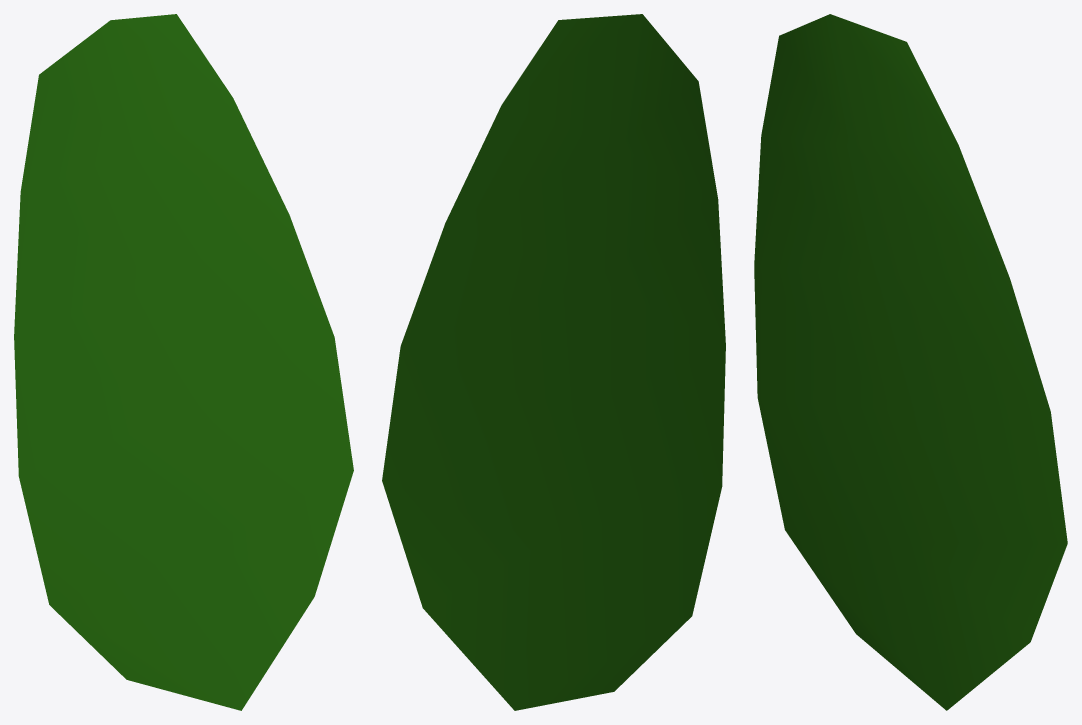
The model's file is lovebird_feather_flight_tertiary_019.001.obj.
The picture shows the model from 3 angles, left to right: view 1: azimuth 30°, elevation 25°; view 2: azimuth 150°, elevation 25°; view 3: azimuth 330°, elevation 25°; orthographic projection. The views are drawn at different scales.
Visible parts, largest first — view 1: feather_flight_tertiary_019.001; view 2: feather_flight_tertiary_019.001; view 3: feather_flight_tertiary_019.001.
Boxes of the visible parts, box(x1,y1,x2,y2) form: feather_flight_tertiary_019.001: box(14, 14, 353, 710); feather_flight_tertiary_019.001: box(382, 14, 725, 710); feather_flight_tertiary_019.001: box(754, 14, 1067, 710).
Bounding box in the file's own units: 0.00377 × 0.00764 × 0.000209.
